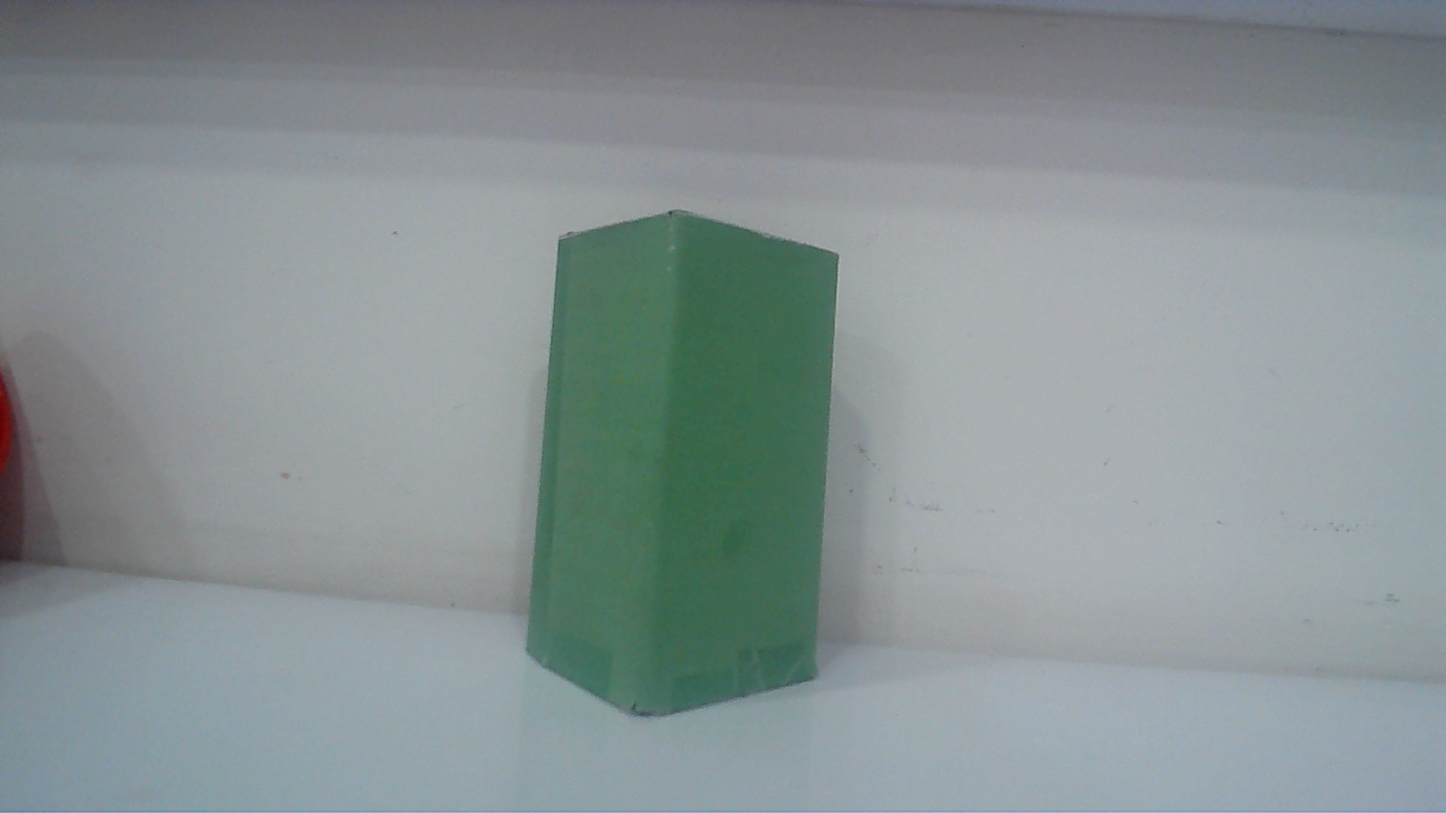green: (517, 202, 855, 730)
